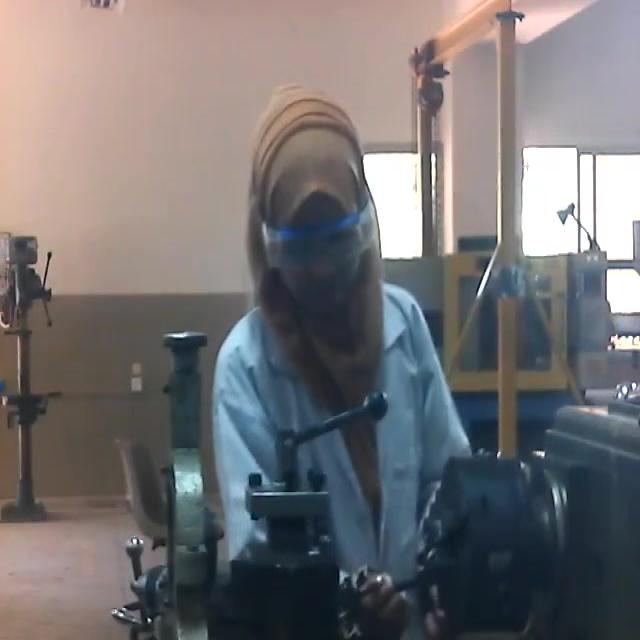googles: (258, 193, 382, 272)
labcoat: (197, 277, 478, 640)
